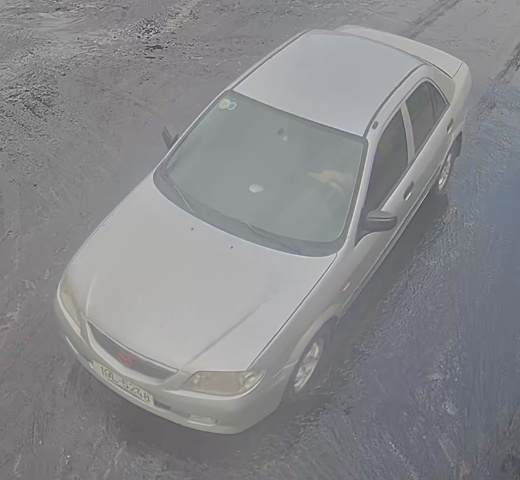vehicle plate: (84, 355, 158, 412)
